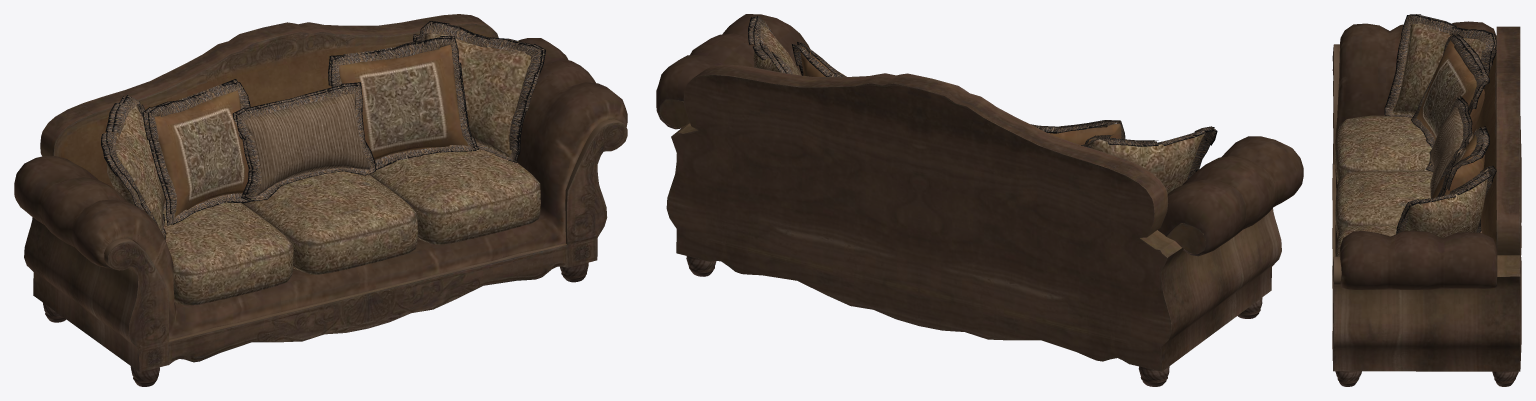
Rendered from sofa-03.glb.
3 views of the same model, side by side, from view 1: azimuth 30°, elevation 25°; view 2: azimuth 150°, elevation 25°; view 3: azimuth 270°, elevation 25° (orthographic). The views are drawn at different scales.
Parts seen in each view (by area): view 1: sofa_03; view 2: sofa_03; view 3: sofa_03.
Part boxes in pixels (bbox=[...]): sofa_03: bbox=[14, 14, 627, 386]; sofa_03: bbox=[656, 14, 1303, 386]; sofa_03: bbox=[1332, 14, 1521, 386].
Bounding box in the file's own units: 2.73 × 1.12 × 0.9251.
2 materials, 2 textured.
